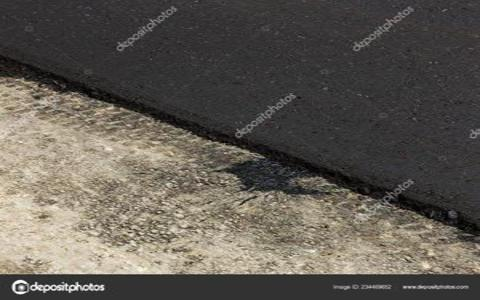Proper road: (186, 8, 354, 173)
